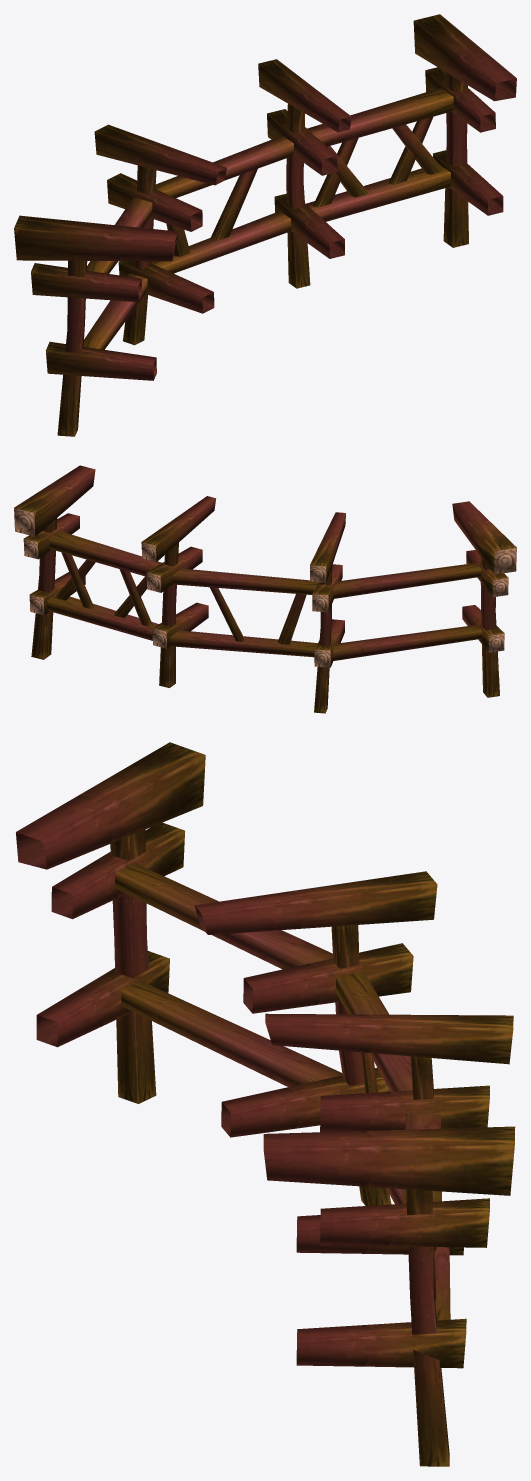
The model's file is environment_common_kuangkengwall_001_b.FBX.
The picture shows the model from 3 angles, top to bottom: view 1: azimuth 30°, elevation 25°; view 2: azimuth 150°, elevation 25°; view 3: azimuth 270°, elevation 25°; orthographic projection. The views are drawn at different scales.
Parts seen in each view (by area): view 1: environment_common_kuangkengwall_001_b; view 2: environment_common_kuangkengwall_001_b; view 3: environment_common_kuangkengwall_001_b.
Part boxes in pixels (x1,y1,x2,y2): environment_common_kuangkengwall_001_b: [14, 14, 516, 436]; environment_common_kuangkengwall_001_b: [14, 465, 516, 713]; environment_common_kuangkengwall_001_b: [16, 742, 515, 1466].
Size of the model in its own units: 1424 by 529 by 739.
